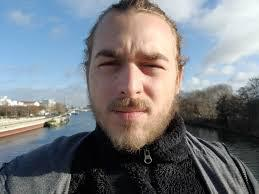face: (88, 10, 176, 140)
